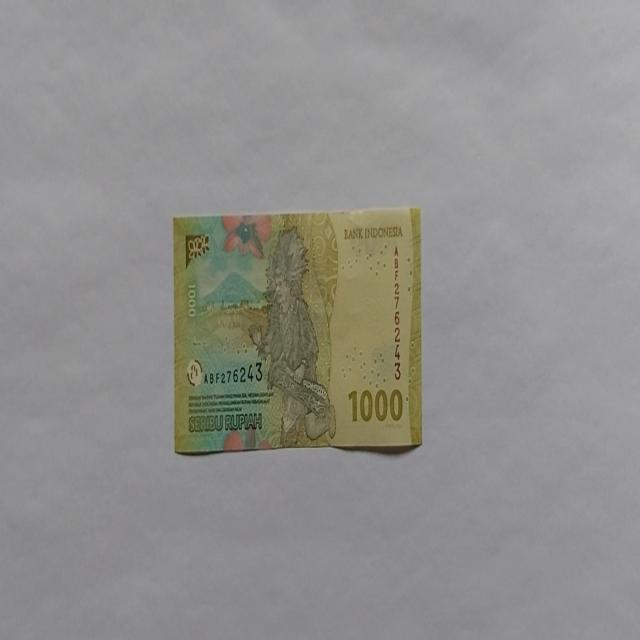seribu rupiah kertas: (172, 206, 423, 455)
